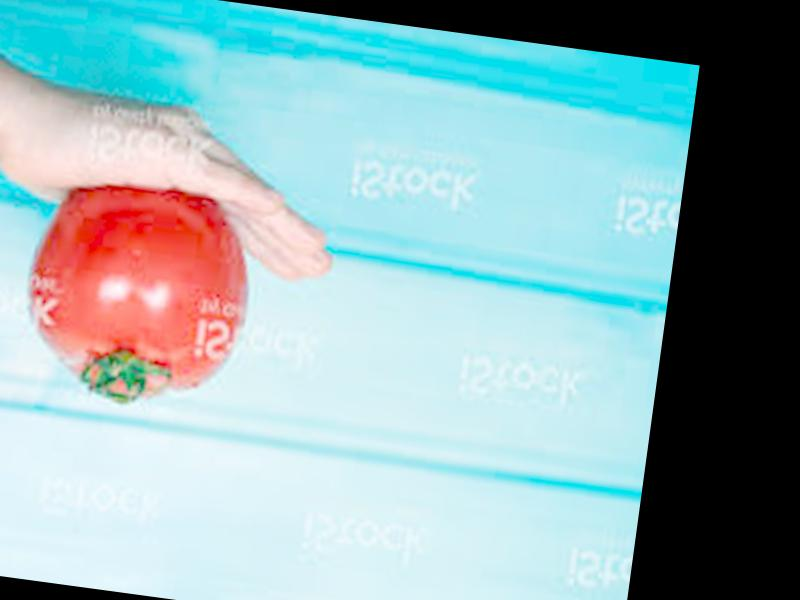Tomato: (19, 171, 262, 415)
